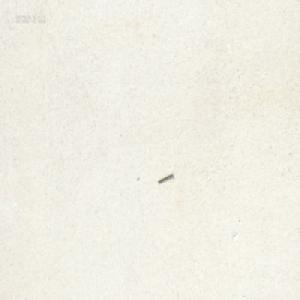Bolt: (157, 170, 173, 182)
